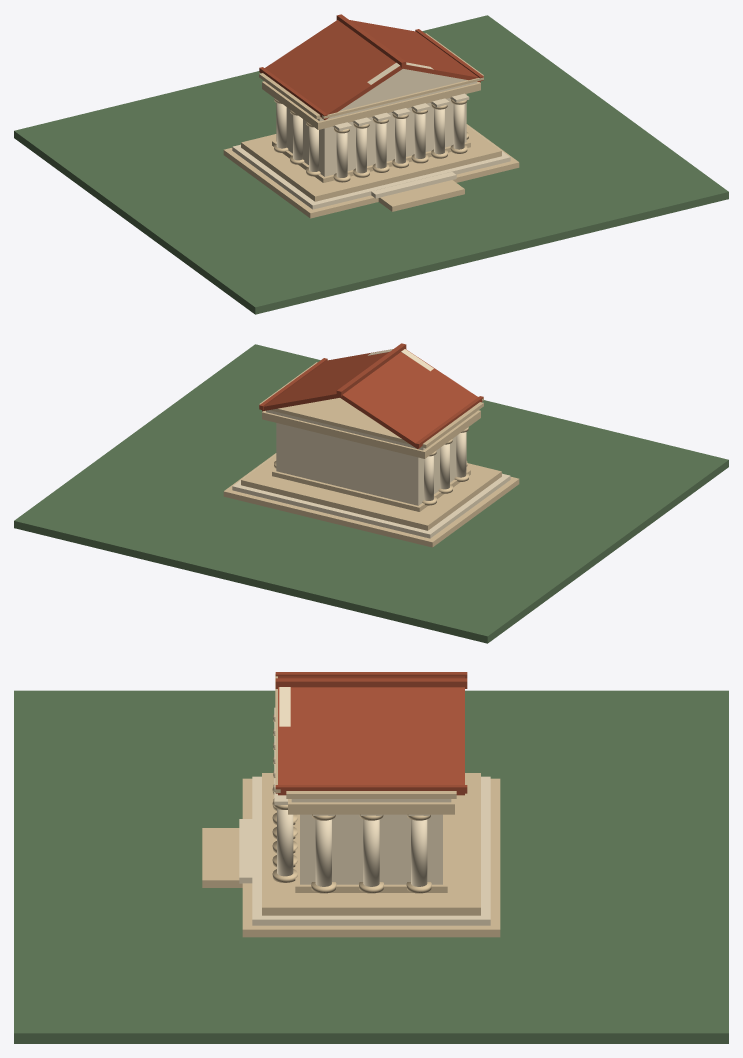
File: templo_griego.glb
The picture shows the model from 3 angles, top to bottom: view 1: azimuth 30°, elevation 25°; view 2: azimuth 150°, elevation 25°; view 3: azimuth 270°, elevation 25°; orthographic projection. The views are drawn at different scales.
Visible parts, largest first — view 1: Suelo, Tejado izquierdo, Estilobato, Cella principal, Tejado derecho, Escalon inferior, Fronton triangular, Escalon medio, Arquitrabe, Escalinata frontal, Escalinata frontal 2, Moldura frontal (+9 smaller); view 2: Suelo, Cella principal, Tejado izquierdo, Estilobato, Escalon inferior, Cornisa, Tejado derecho, Escalon medio, Arquitrabe, Zocalo, Cumbrera, Friso; view 3: Suelo, Tejado derecho, Estilobato, Cella principal, Escalon inferior, Escalon medio, Escalinata frontal, Arquitrabe, Cumbrera, Zocalo, Cornisa, Alero derecho (+7 smaller).
Boxes of the visible parts, <box> form: Suelo: <box>14,15,728,314</box>; Tejado izquierdo: <box>265,20,402,119</box>; Estilobato: <box>241,125,501,201</box>; Cella principal: <box>276,94,466,176</box>; Tejado derecho: <box>350,20,480,82</box>; Escalon inferior: <box>223,124,519,218</box>; Fronton triangular: <box>339,62,467,111</box>; Escalon medio: <box>232,125,510,209</box>; Arquitrabe: <box>262,81,480,129</box>; Escalinata frontal: <box>378,180,464,211</box>; Escalinata frontal 2: <box>371,172,456,198</box>; Moldura frontal: <box>322,77,483,118</box>; Suelo: <box>14,344,728,643</box>; Cella principal: <box>276,423,466,505</box>; Tejado izquierdo: <box>340,349,477,448</box>; Estilobato: <box>241,454,501,530</box>; Escalon inferior: <box>223,453,519,547</box>; Cornisa: <box>259,362,483,448</box>; Tejado derecho: <box>262,350,388,411</box>; Escalon medio: <box>232,454,510,538</box>; Arquitrabe: <box>262,410,480,458</box>; Zocalo: <box>272,469,470,511</box>; Cumbrera: <box>336,343,406,396</box>; Friso: <box>266,410,425,450</box>; Suelo: <box>14,690,728,1043</box>; Tejado derecho: <box>278,687,464,795</box>; Estilobato: <box>262,773,480,915</box>; Cella principal: <box>300,814,442,884</box>; Escalon inferior: <box>242,778,500,937</box>; Escalon medio: <box>252,776,490,925</box>; Escalinata frontal: <box>202,828,242,887</box>; Arquitrabe: <box>288,799,454,814</box>; Cumbrera: <box>275,678,467,688</box>; Zocalo: <box>295,814,447,892</box>; Cornisa: <box>286,791,456,798</box>; Alero derecho: <box>275,785,467,793</box>.
Size of the model in its own units: 34 by 8.92 by 30.
